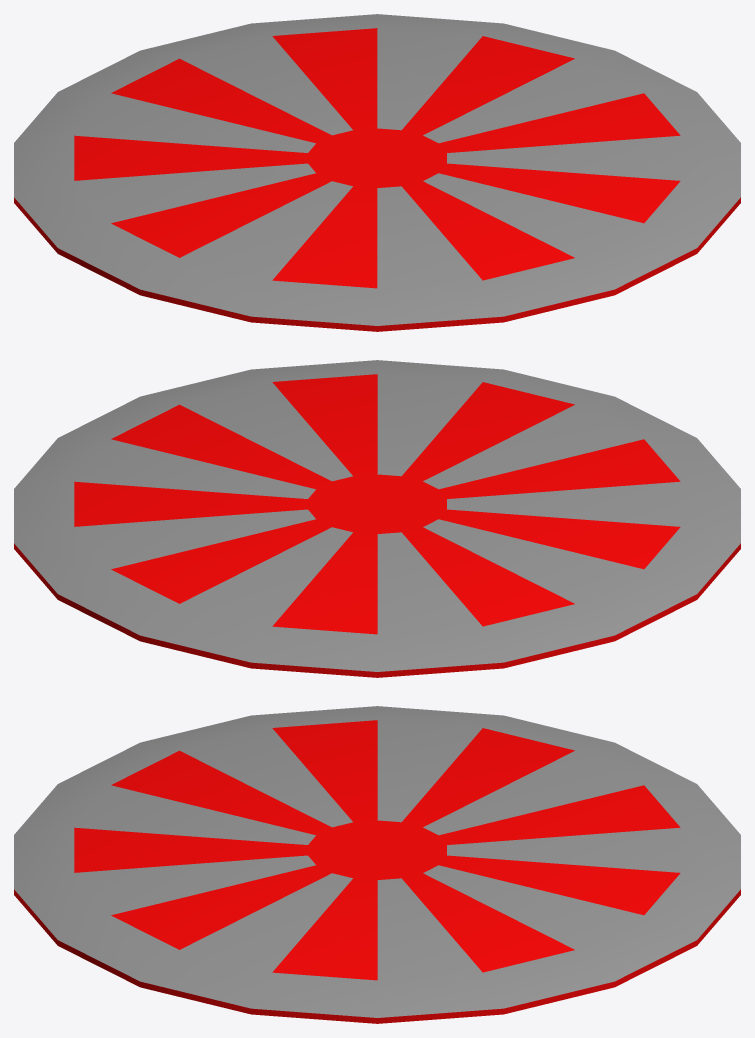
Rendered from Plate.FBX.
The picture shows the model from 3 angles, top to bottom: view 1: azimuth 30°, elevation 25°; view 2: azimuth 150°, elevation 25°; view 3: azimuth 270°, elevation 25°; orthographic projection.
Visible parts, largest first — view 1: StartingPlate; view 2: StartingPlate; view 3: StartingPlate.
Boxes of the visible parts, left/top/right/bottom form: StartingPlate: left=14, top=14, right=740, bottom=331; StartingPlate: left=14, top=360, right=740, bottom=677; StartingPlate: left=14, top=706, right=740, bottom=1023.
Size of the model in its own units: 74.8 by 1.97 by 73.67.
